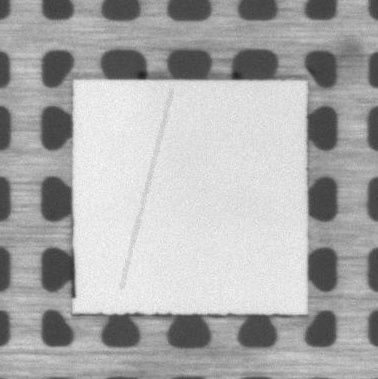DIE_CRACK: (121, 91, 172, 290)
